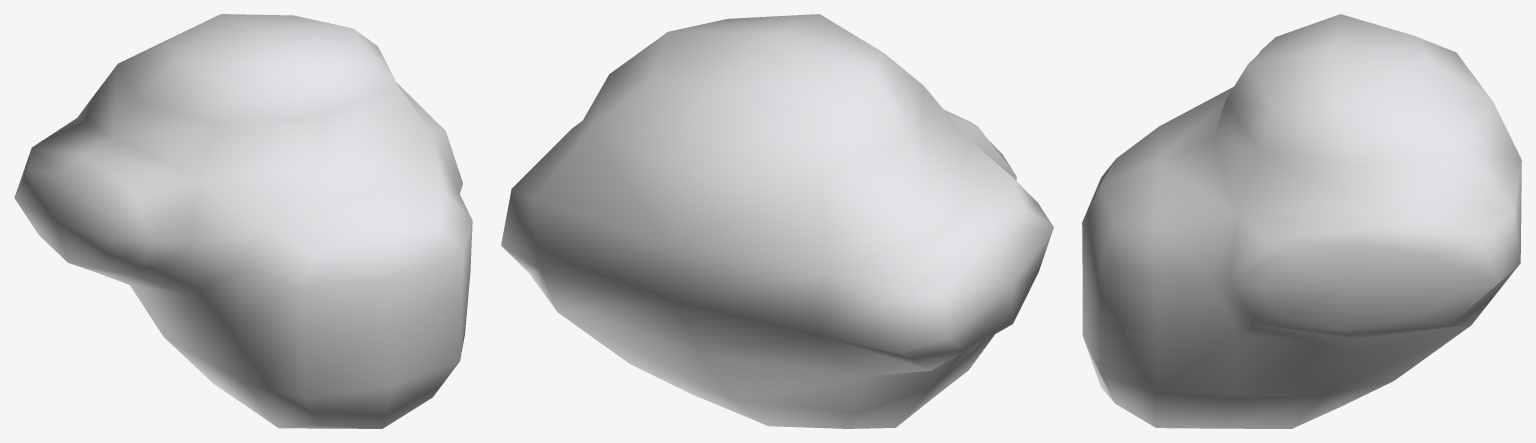
The model's file is rock01.gltf.
3 views of the same model, side by side, from view 1: azimuth 30°, elevation 25°; view 2: azimuth 150°, elevation 25°; view 3: azimuth 270°, elevation 25° (orthographic). The views are drawn at different scales.
Visible parts, largest first — view 1: Cube; view 2: Cube; view 3: Cube.
Part boxes in pixels (x1=…): Cube: x1=14, y1=14, x2=472, y2=428; Cube: x1=501, y1=14, x2=1053, y2=428; Cube: x1=1082, y1=14, x2=1521, y2=428.
Size of the model in its own units: 3.56 by 3.13 by 3.53.
Materials: 1 (1 with a texture image).
